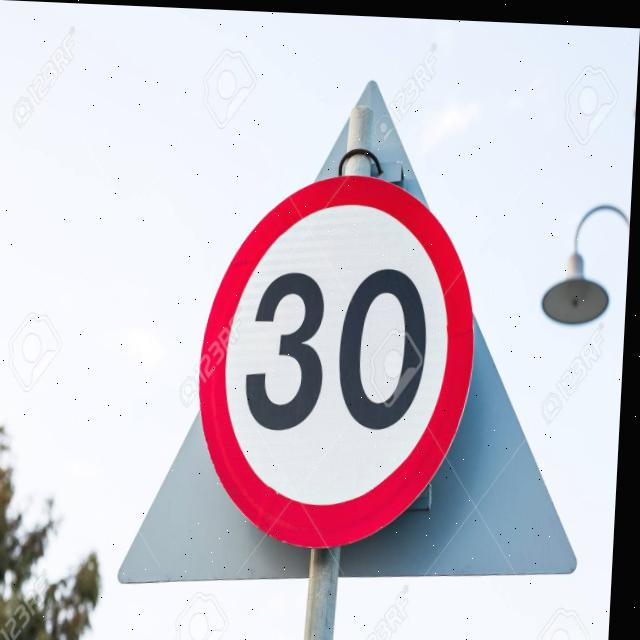Speed limit 30: (193, 162, 488, 554)
